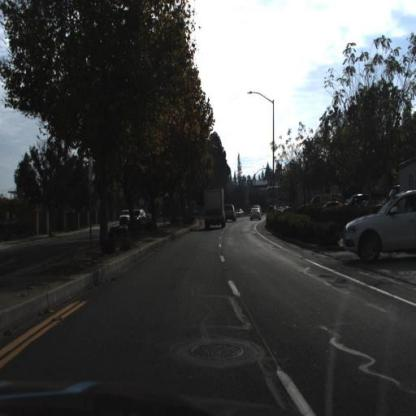car: (343, 186, 416, 268), (200, 187, 228, 230), (223, 204, 239, 225), (129, 208, 147, 224), (250, 205, 263, 224), (120, 209, 130, 227)
truck: (204, 183, 226, 232)
